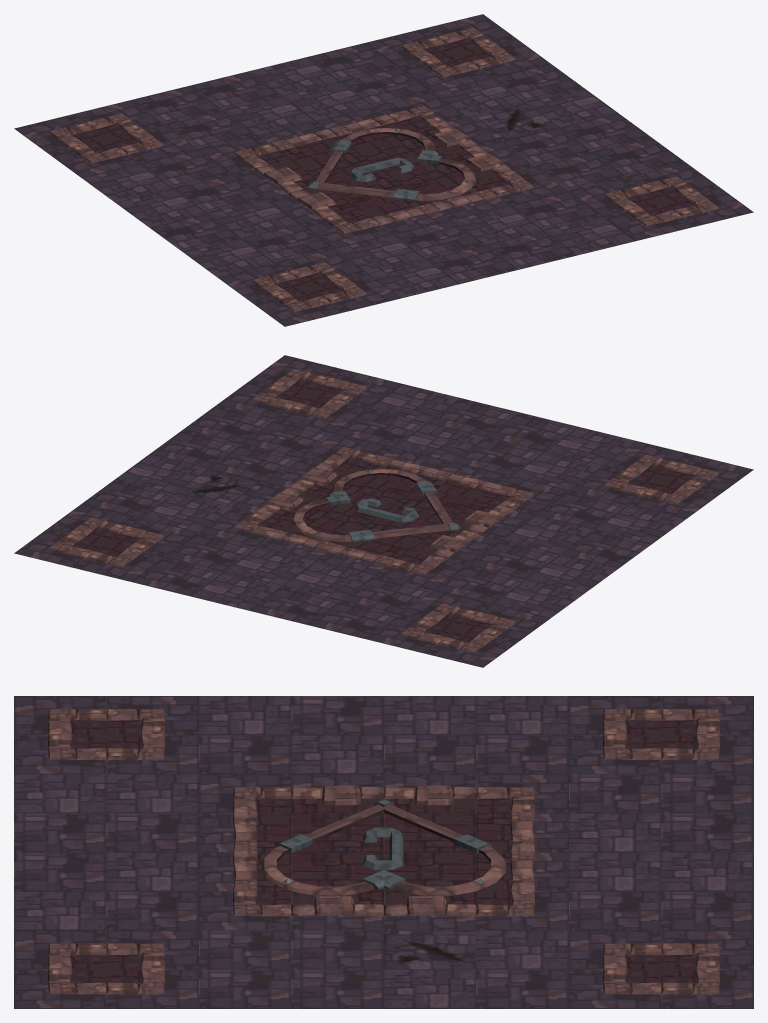
The model's file is Room_Floor_16_C.fbx.
3 views of the same model, one above another, from view 1: azimuth 30°, elevation 25°; view 2: azimuth 150°, elevation 25°; view 3: azimuth 270°, elevation 25° (orthographic). The views are drawn at different scales.
Visible parts, largest first — view 1: Room_Floor_16_C; view 2: Room_Floor_16_C; view 3: Room_Floor_16_C.
Boxes of the visible parts, bbox=[...] form: Room_Floor_16_C: bbox=[14, 14, 753, 326]; Room_Floor_16_C: bbox=[14, 355, 753, 667]; Room_Floor_16_C: bbox=[14, 696, 753, 1008].
Bounding box in the file's own units: 1600 × 43.18 × 1600.
